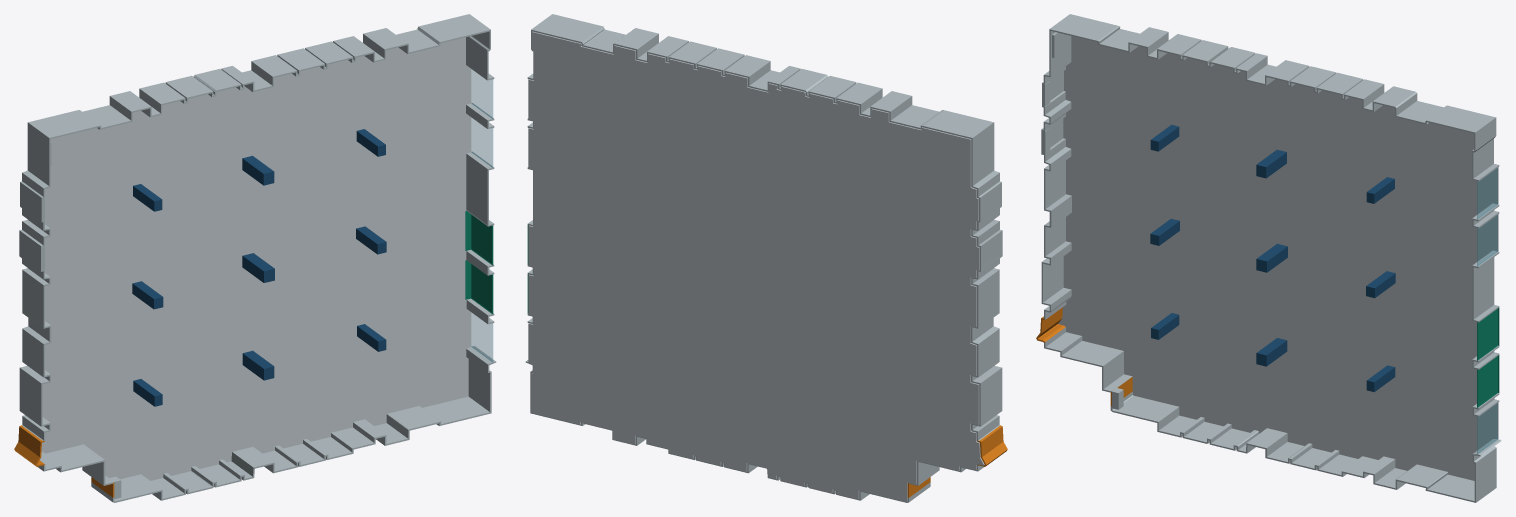
The model's file is JRRF_venue_layout.obj.
3 renders of one model, left to right at view 1: azimuth 30°, elevation 25°; view 2: azimuth 150°, elevation 25°; view 3: azimuth 330°, elevation 25°, orthographic. The views are drawn at different scales.
Visible parts, largest first — view 1: Floor_envelope_scan_based, Wall_component_01, Wall_component_03, Entry_zone_B_bay, Glass_2_bay, Entry_zone_A_bay, Glass_3_bay, Glass_1_bay, C22, C32, C12, C21 (+1 smaller); view 2: Floor_envelope_scan_based, Wall_component_01; view 3: Floor_envelope_scan_based, Wall_component_01, Wall_component_03, Entry_zone_B_bay, Entry_zone_A_bay, Glass_2_bay, Glass_3_bay, Glass_1_bay, C22, C12, C32.
Boxes of the visible parts, <box> form: Floor_envelope_scan_based: <box>41,37,471,480</box>; Wall_component_01: <box>14,14,496,502</box>; Wall_component_03: <box>466,151,494,226</box>; Entry_zone_B_bay: <box>471,214,491,263</box>; Glass_2_bay: <box>471,118,491,166</box>; Entry_zone_A_bay: <box>471,264,491,312</box>; Glass_3_bay: <box>471,69,491,117</box>; Glass_1_bay: <box>471,313,491,360</box>; C22: <box>242,253,274,282</box>; C32: <box>242,155,274,185</box>; C12: <box>242,350,274,380</box>; C21: <box>132,281,163,309</box>; Floor_envelope_scan_based: <box>528,31,984,501</box>; Wall_component_01: <box>525,14,1007,502</box>; Floor_envelope_scan_based: <box>1058,36,1498,480</box>; Wall_component_01: <box>1036,14,1501,502</box>; Wall_component_03: <box>1472,250,1499,322</box>; Entry_zone_B_bay: <box>1478,308,1497,359</box>; Entry_zone_A_bay: <box>1478,356,1497,406</box>; Glass_2_bay: <box>1478,215,1497,265</box>; Glass_3_bay: <box>1478,168,1497,218</box>; Glass_1_bay: <box>1478,403,1497,453</box>; C22: <box>1256,243,1287,272</box>; C12: <box>1256,338,1287,366</box>; C32: <box>1256,149,1286,178</box>.
Bounding box in the file's own units: 49.53 × 40.73 × 4.11.
